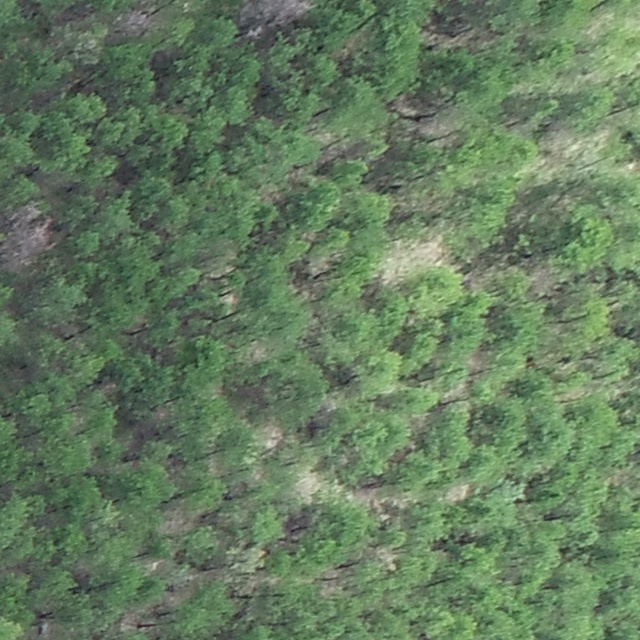unhealthy: (0, 203, 55, 271), (246, 0, 316, 30), (113, 6, 158, 38), (526, 261, 558, 294), (462, 260, 496, 291), (371, 546, 401, 573), (604, 465, 636, 490), (246, 338, 270, 362)
